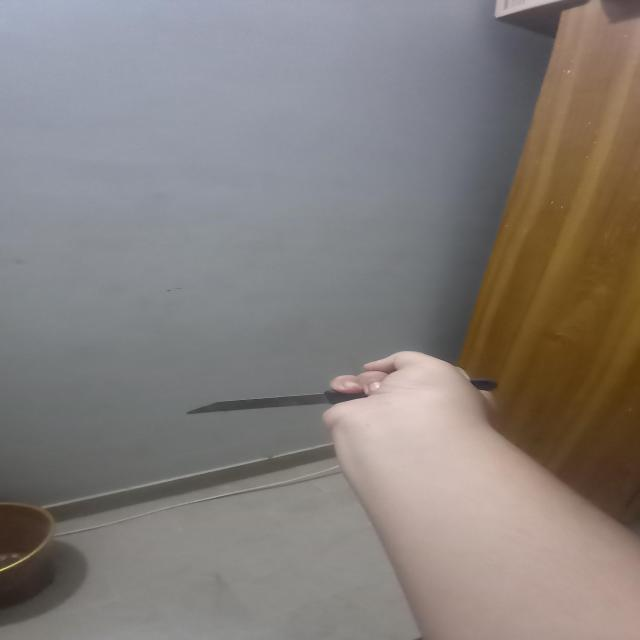faca: (184, 378, 501, 417)
